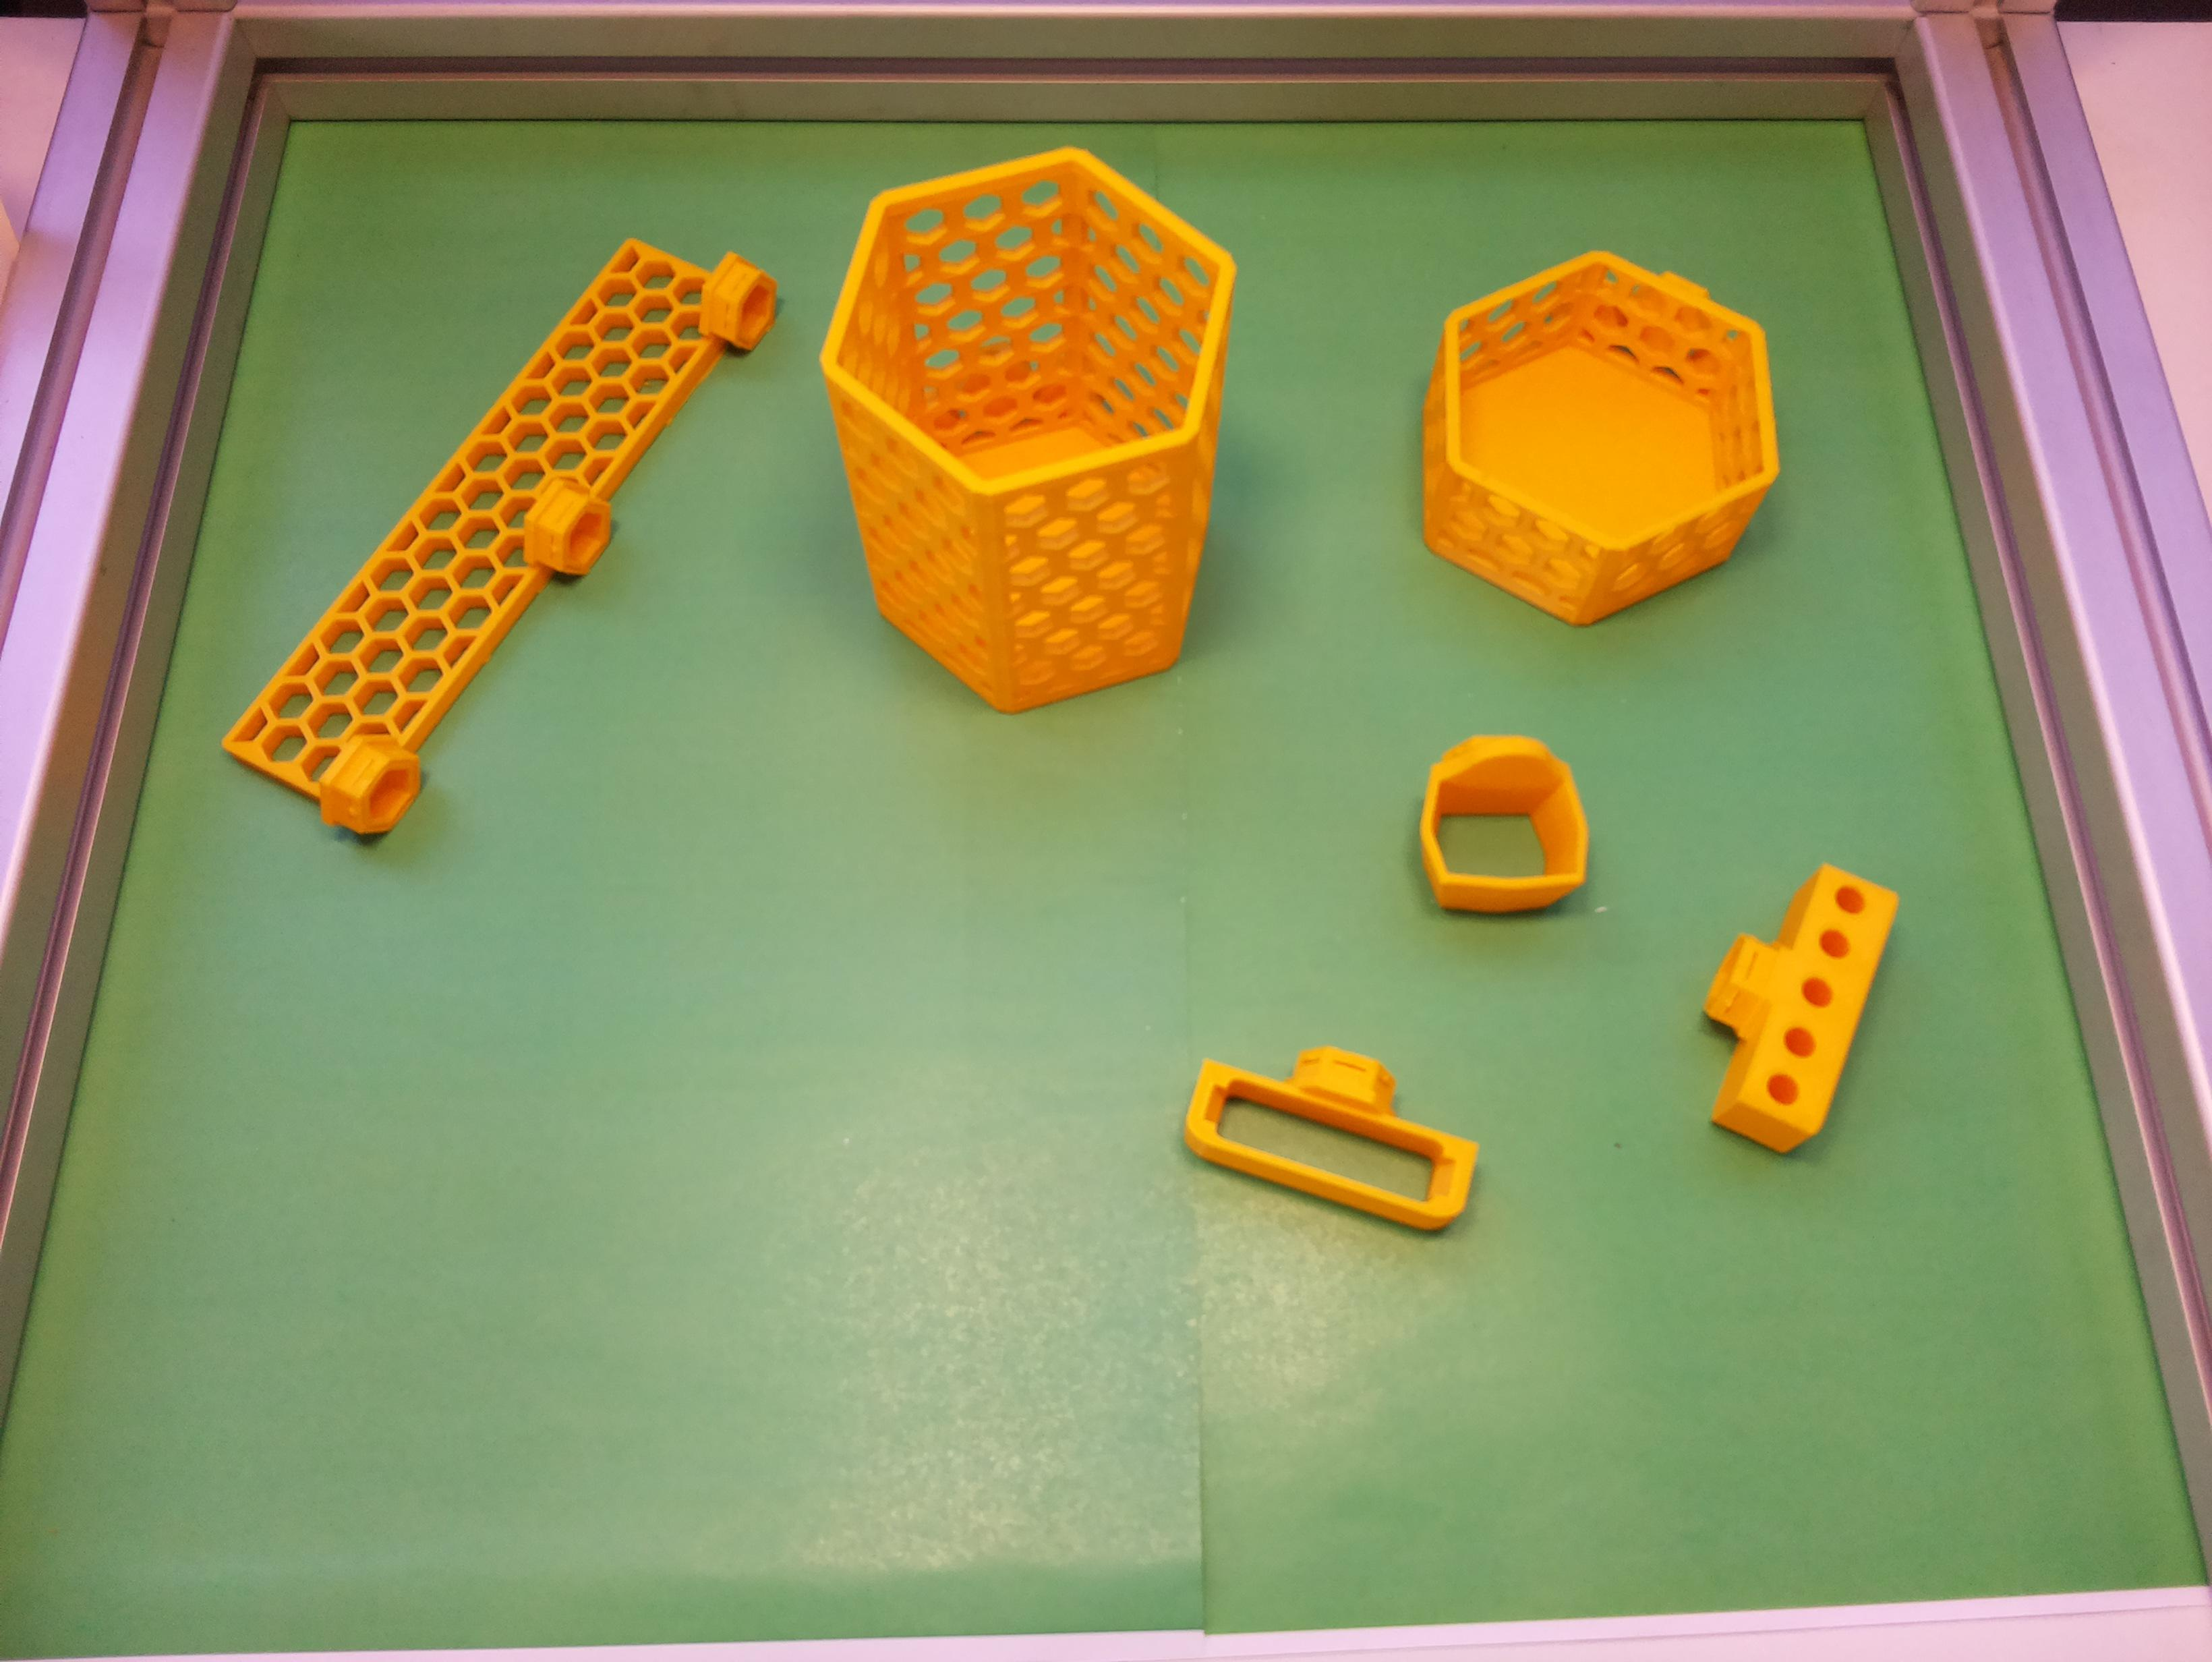bit_holder: (1666, 841, 1903, 1163)
bottle_holder: (1355, 197, 1835, 674)
cup_holder: (784, 124, 1247, 731)
cutter_holder: (1177, 1011, 1500, 1241)
scissor_holder: (1421, 737, 1587, 913)
tool_holder: (220, 190, 808, 861)
